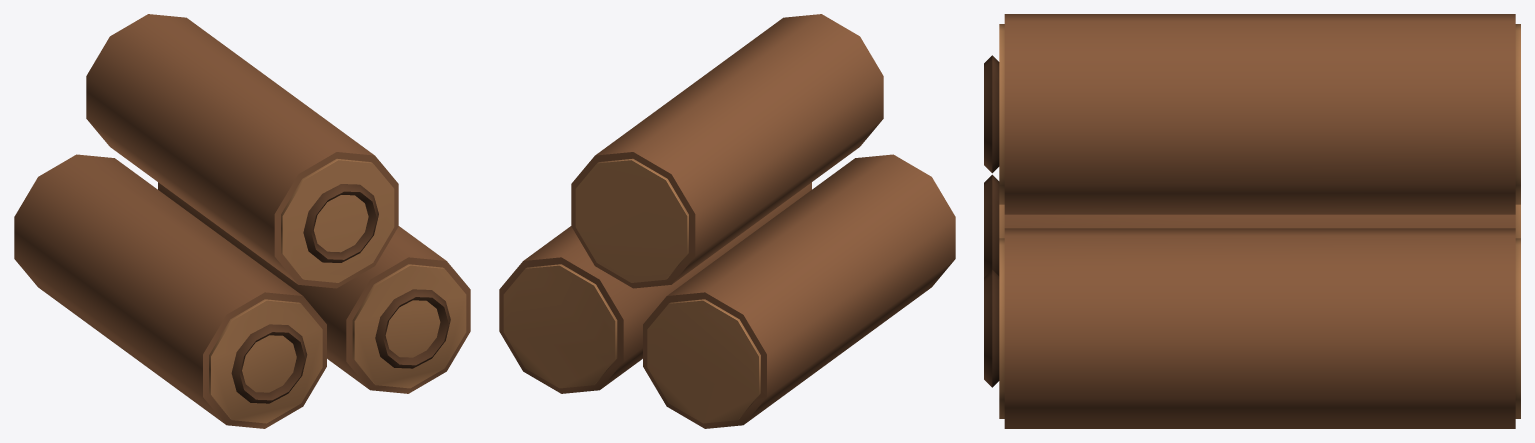
Rendered from log_pile.glb.
3 views of the same model, side by side, from view 1: azimuth 30°, elevation 25°; view 2: azimuth 150°, elevation 25°; view 3: azimuth 270°, elevation 25° (orthographic). The views are drawn at different scales.
Visible parts, largest first — view 1: Logs; view 2: Logs; view 3: Logs.
Part boxes in pixels (left/top/right/bottom): Logs: left=14, top=14, right=470, bottom=428; Logs: left=499, top=14, right=955, bottom=428; Logs: left=984, top=14, right=1520, bottom=428.
Size of the model in its own units: 0.4102 by 0.38 by 0.525.
Materials: 1 (1 with a texture image).
